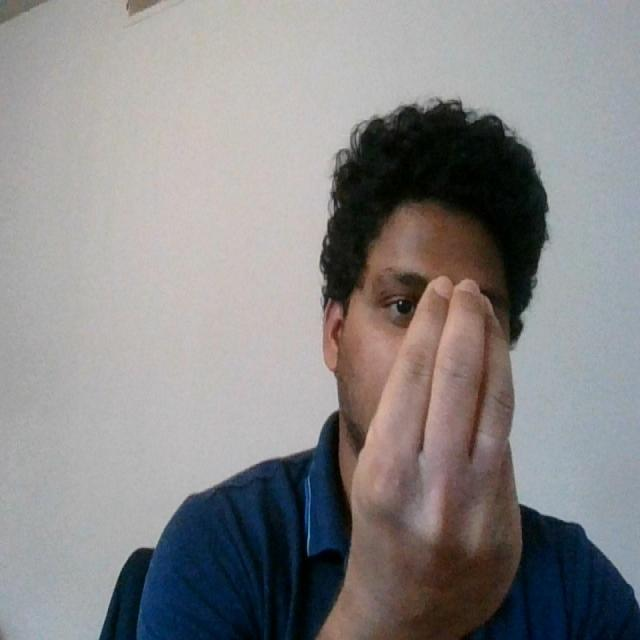Please: (342, 269, 533, 640)
